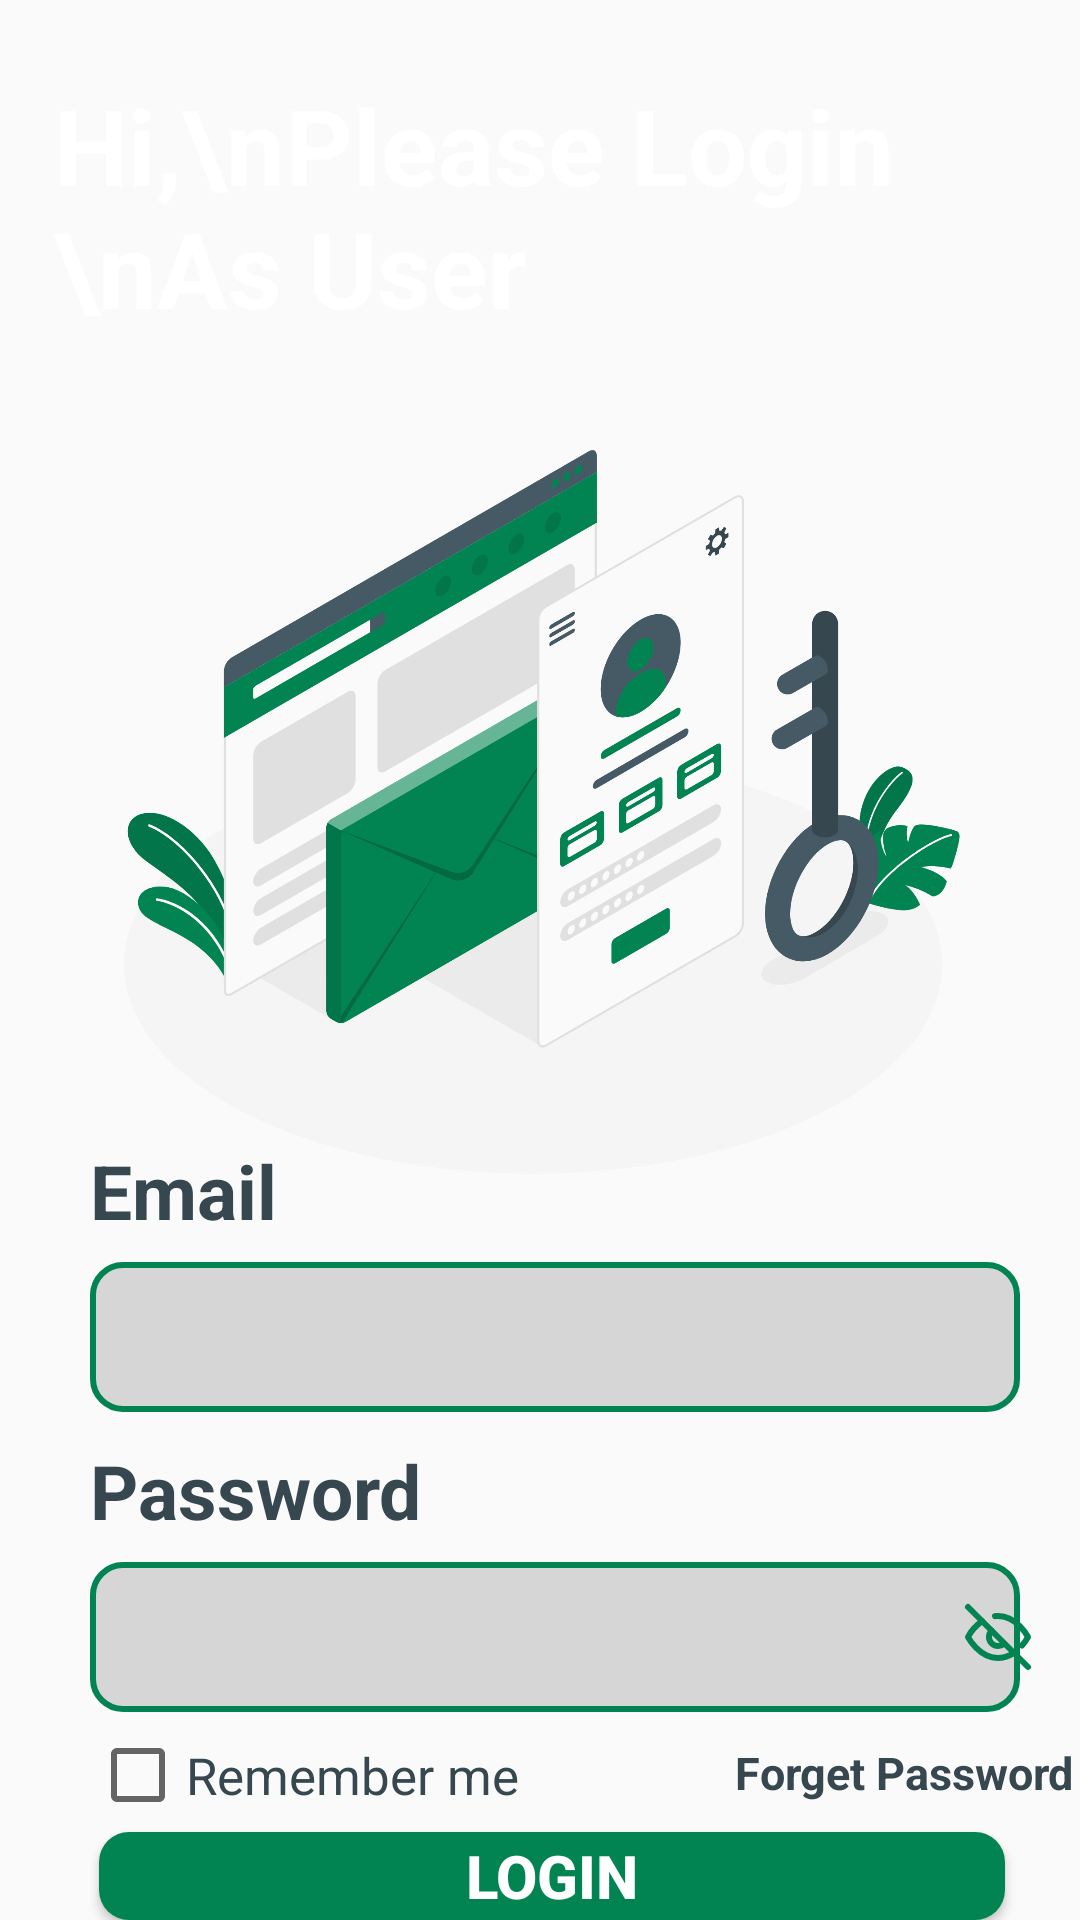

Screen size 1080 × 1920. Icon name, then its center in pixels as (x=x, y=y):
hide: (x=1000, y=1637)
